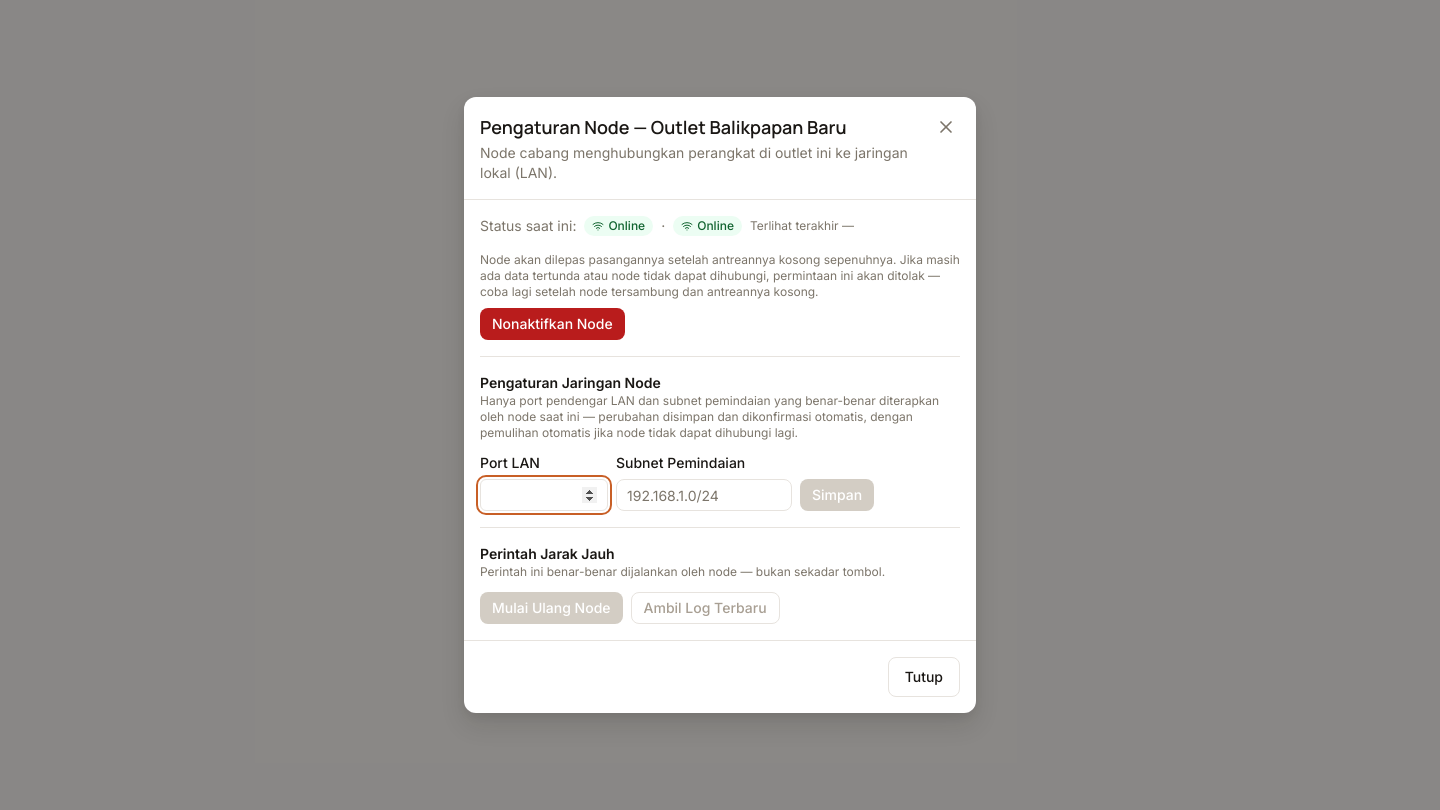
Test: NodeSettingModal › explains the drain-before-off refusal, quoting the queue depth the server sent
The width and height of the screenshot is (1440, 810).
Click the button "Nonaktifkan Node". click: (552, 324)
box: x1=480 y1=308 x2=625 y2=340
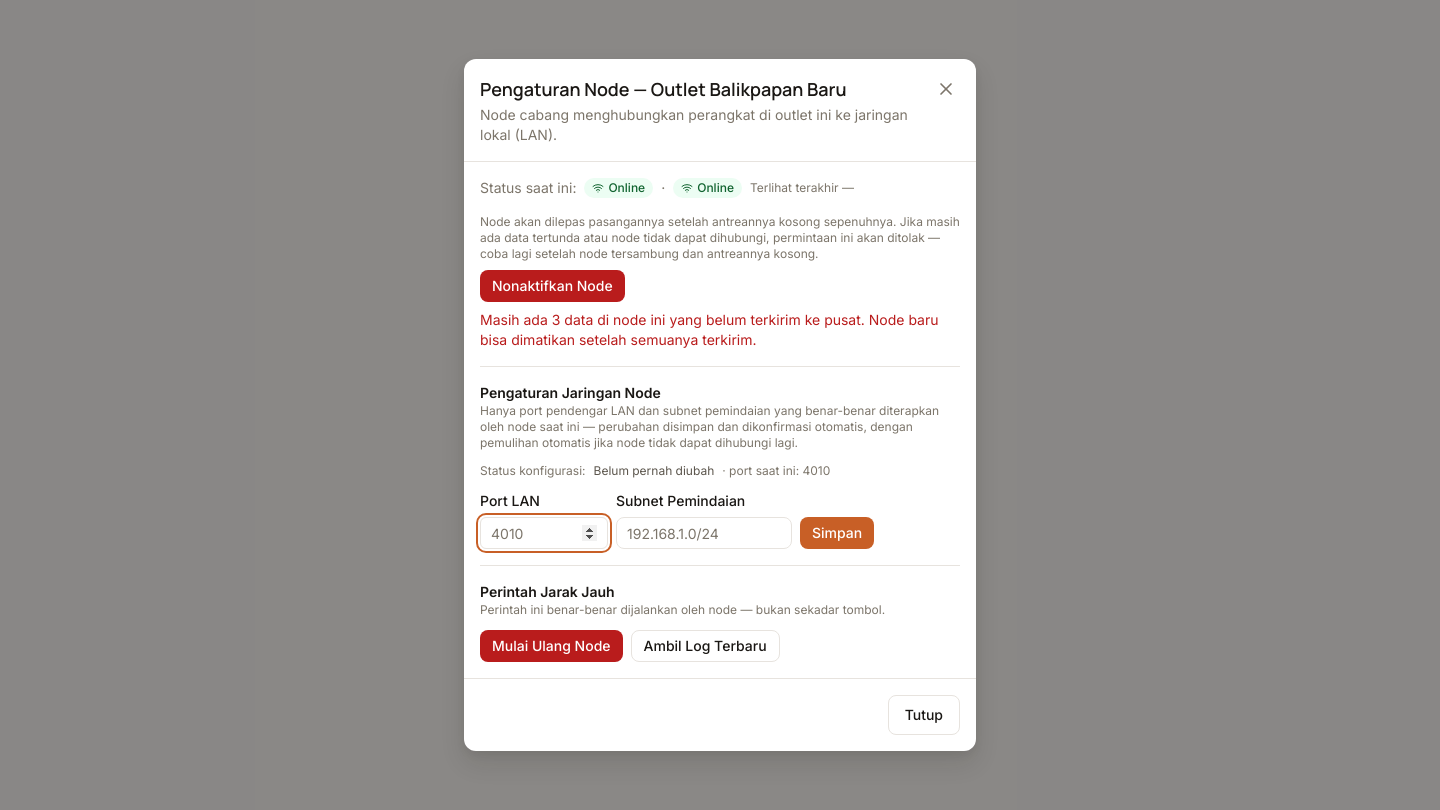
expect the text "Masih ada 3 data di node ini yang belum terkirim ke pusat. Node baru bisa dimatikan setelah semuanya terkirim." is shown: met, box x1=480 y1=311 x2=938 y2=348
